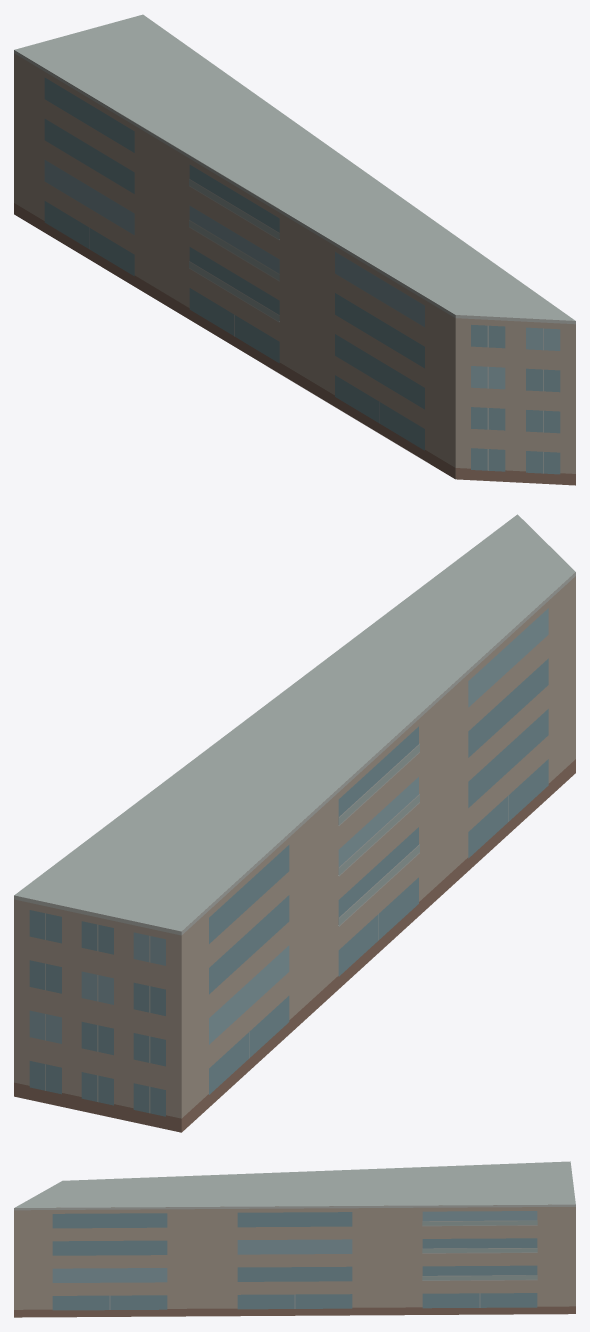
Rendered from residential-b56e36f1-5e85-41ed-bcc9-78baaf22157e.glb.
The picture shows the model from 3 angles, top to bottom: view 1: azimuth 30°, elevation 25°; view 2: azimuth 150°, elevation 25°; view 3: azimuth 270°, elevation 25°; orthographic projection. The views are drawn at different scales.
Visible parts, largest first — view 1: residential-b56e36f1-5e85-41ed-bcc9-78baaf22157e.tmp; view 2: residential-b56e36f1-5e85-41ed-bcc9-78baaf22157e.tmp; view 3: residential-b56e36f1-5e85-41ed-bcc9-78baaf22157e.tmp.
Part boxes in pixels (x1,y1,x2,y2): residential-b56e36f1-5e85-41ed-bcc9-78baaf22157e.tmp: [14, 14, 575, 485]; residential-b56e36f1-5e85-41ed-bcc9-78baaf22157e.tmp: [14, 514, 575, 1132]; residential-b56e36f1-5e85-41ed-bcc9-78baaf22157e.tmp: [14, 1161, 575, 1317].
Bounding box in the file's own units: 11.16 × 12.2 × 56.78.
